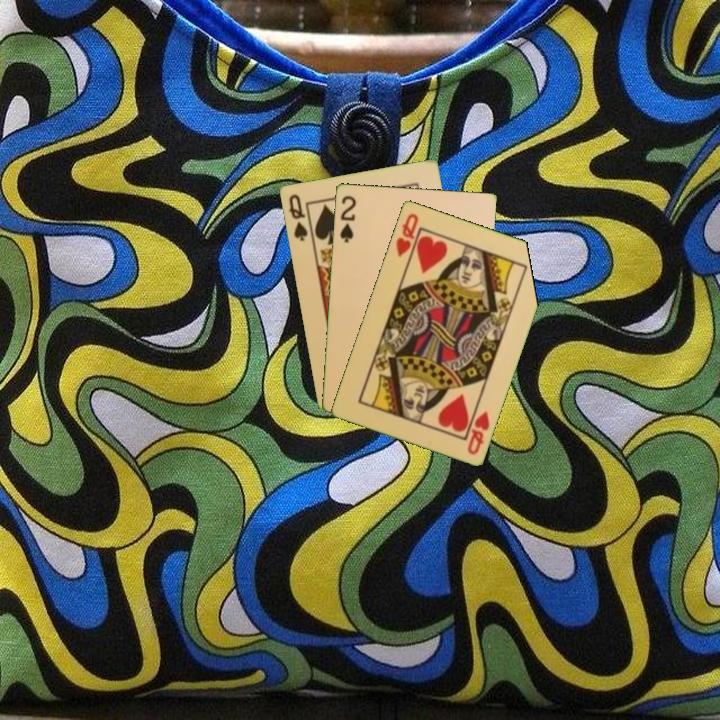2s: (336, 192, 359, 245)
Qh: (392, 209, 421, 259), (463, 407, 492, 457)
Qs: (285, 190, 310, 244)
